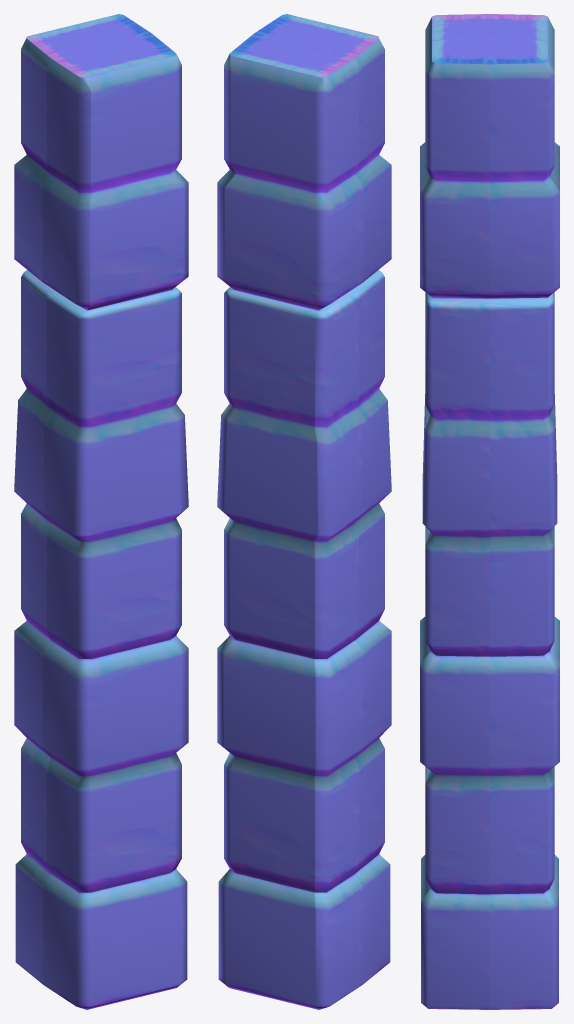
The model's file is sm_wall_detail_01.fbx.
3 views of the same model, side by side, from view 1: azimuth 30°, elevation 25°; view 2: azimuth 150°, elevation 25°; view 3: azimuth 270°, elevation 25° (orthographic).
Parts seen in each view (by area): view 1: sm_wall_detail_01; view 2: sm_wall_detail_01; view 3: sm_wall_detail_01.
Boxes of the visible parts, x1,y1,x2,y2 form: sm_wall_detail_01: [14, 14, 188, 1009]; sm_wall_detail_01: [217, 14, 391, 1009]; sm_wall_detail_01: [420, 14, 559, 1009].
Size of the model in its own units: 53.01 by 400 by 53.56.
Materials: 1 (1 with a texture image).
